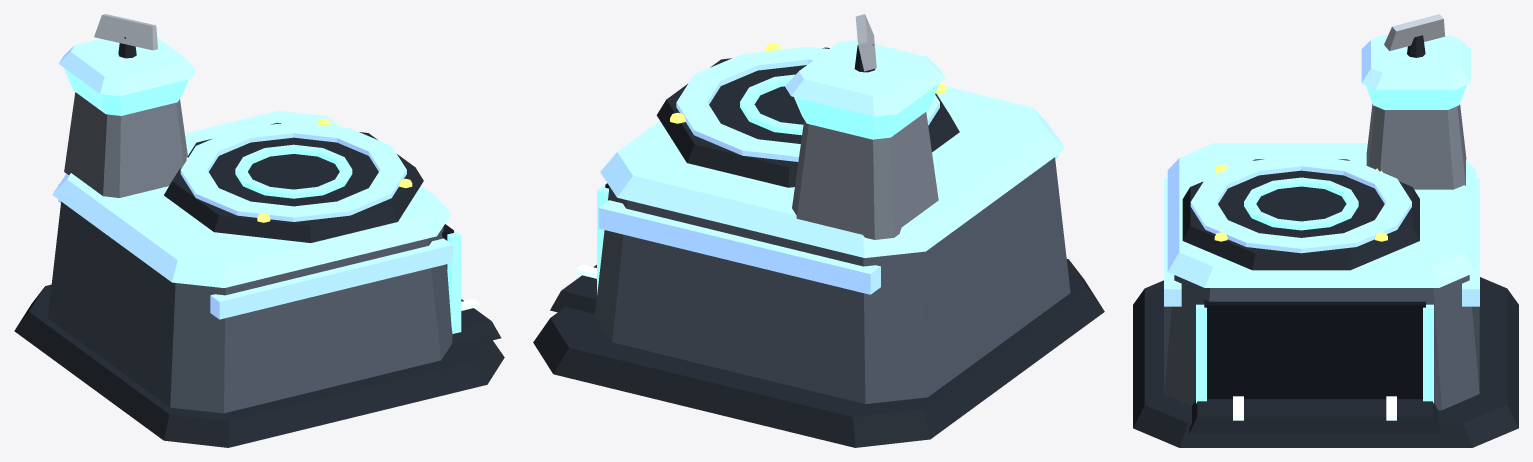
File: airframe_hangar.glb
The picture shows the model from 3 angles, left to right: view 1: azimuth 30°, elevation 25°; view 2: azimuth 150°, elevation 25°; view 3: azimuth 270°, elevation 25°; orthographic projection. The views are drawn at different scales.
Parts seen in each view (by area): view 1: Surf_slate, Surf_TEAM, Surf_dark, Surf_armor, Surf_cyan, Surf_light; view 2: Surf_slate, Surf_TEAM, Surf_dark, Surf_armor, Surf_cyan, Surf_light; view 3: Surf_dark, Surf_TEAM, Surf_bay, Surf_slate, Surf_armor, Surf_cyan, Surf_light, Surf_GLOW.
Part boxes in pixels (x1=…): Surf_slate: x1=48, y1=201, x2=452, y2=413; Surf_TEAM: x1=52, y1=37, x2=452, y2=319; Surf_dark: x1=14, y1=37, x2=504, y2=447; Surf_armor: x1=64, y1=92, x2=187, y2=197; Surf_cyan: x1=64, y1=68, x2=461, y2=333; Surf_light: x1=94, y1=14, x2=157, y2=50; Surf_slate: x1=595, y1=157, x2=1070, y2=403; Surf_TEAM: x1=598, y1=40, x2=1065, y2=294; Surf_dark: x1=533, y1=44, x2=1104, y2=447; Surf_armor: x1=792, y1=112, x2=938, y2=239; Surf_cyan: x1=597, y1=74, x2=939, y2=294; Surf_light: x1=855, y1=14, x2=876, y2=71; Surf_dark: x1=1133, y1=35, x2=1518, y2=447; Surf_TEAM: x1=1164, y1=35, x2=1479, y2=306; Surf_bay: x1=1204, y1=299, x2=1425, y2=399; Surf_slate: x1=1164, y1=275, x2=1479, y2=410; Surf_armor: x1=1366, y1=103, x2=1466, y2=189; Surf_cyan: x1=1196, y1=85, x2=1466, y2=403; Surf_light: x1=1384, y1=14, x2=1444, y2=51; Surf_GLOW: x1=1233, y1=396, x2=1396, y2=420.
Bounding box in the file's own units: 5.68 × 4.92 × 5.64.
